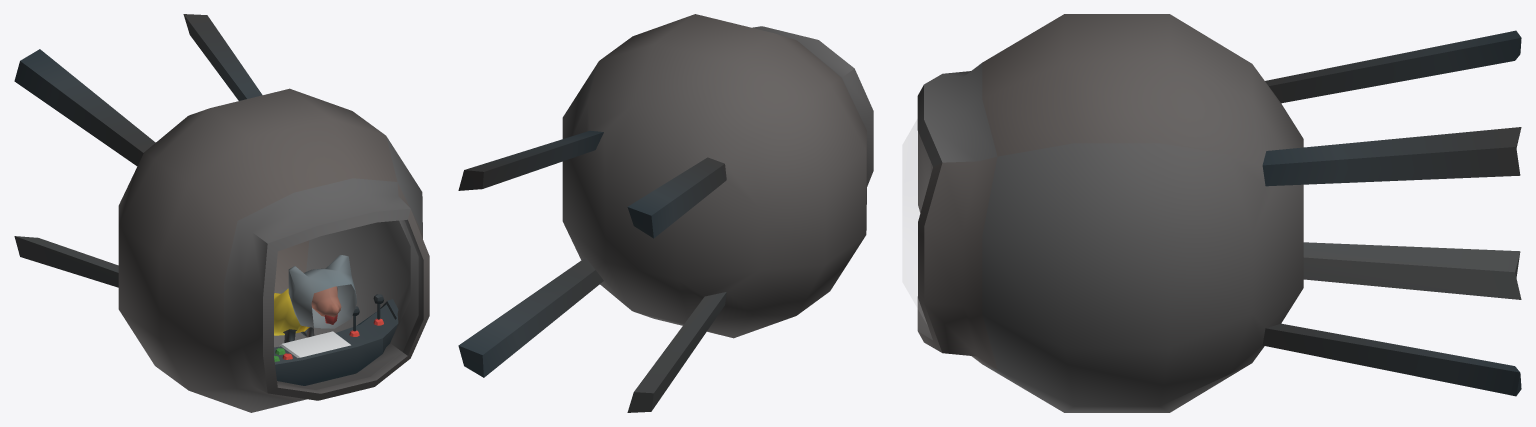
The model's file is Sputinik.fbx.
3 views of the same model, side by side, from view 1: azimuth 30°, elevation 25°; view 2: azimuth 150°, elevation 25°; view 3: azimuth 270°, elevation 25° (orthographic). The views are drawn at different scales.
Visible parts, largest first — view 1: Sputinik, Cachorro; view 2: Sputinik; view 3: Sputinik, Window.
Part boxes in pixels (<box>): Sputinik: <box>14,14,429,412</box>; Cachorro: <box>274,255,356,342</box>; Sputinik: <box>458,14,873,412</box>; Sputinik: <box>917,14,1521,412</box>; Window: <box>903,121,929,320</box>.
Size of the model in its own units: 317 by 317 by 510.
